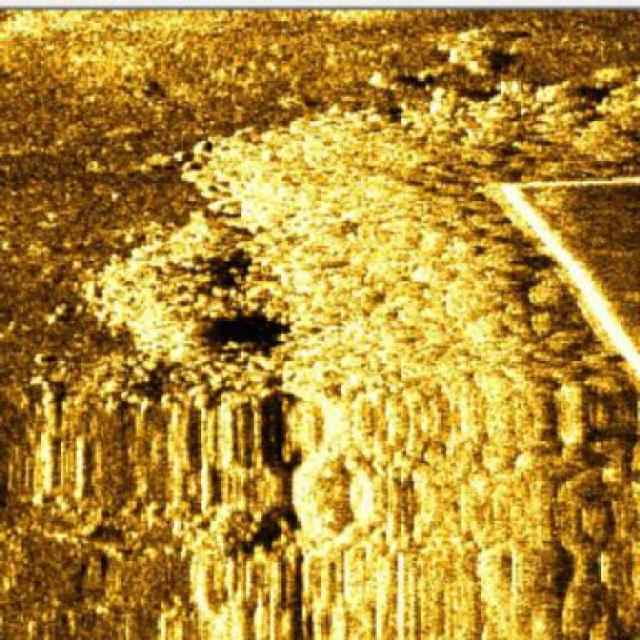bedrock group: (24, 61, 639, 639)
